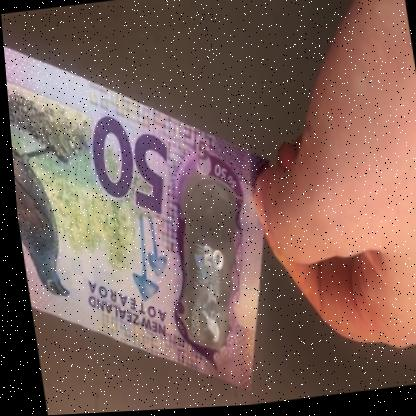50B: (166, 186, 243, 352)
